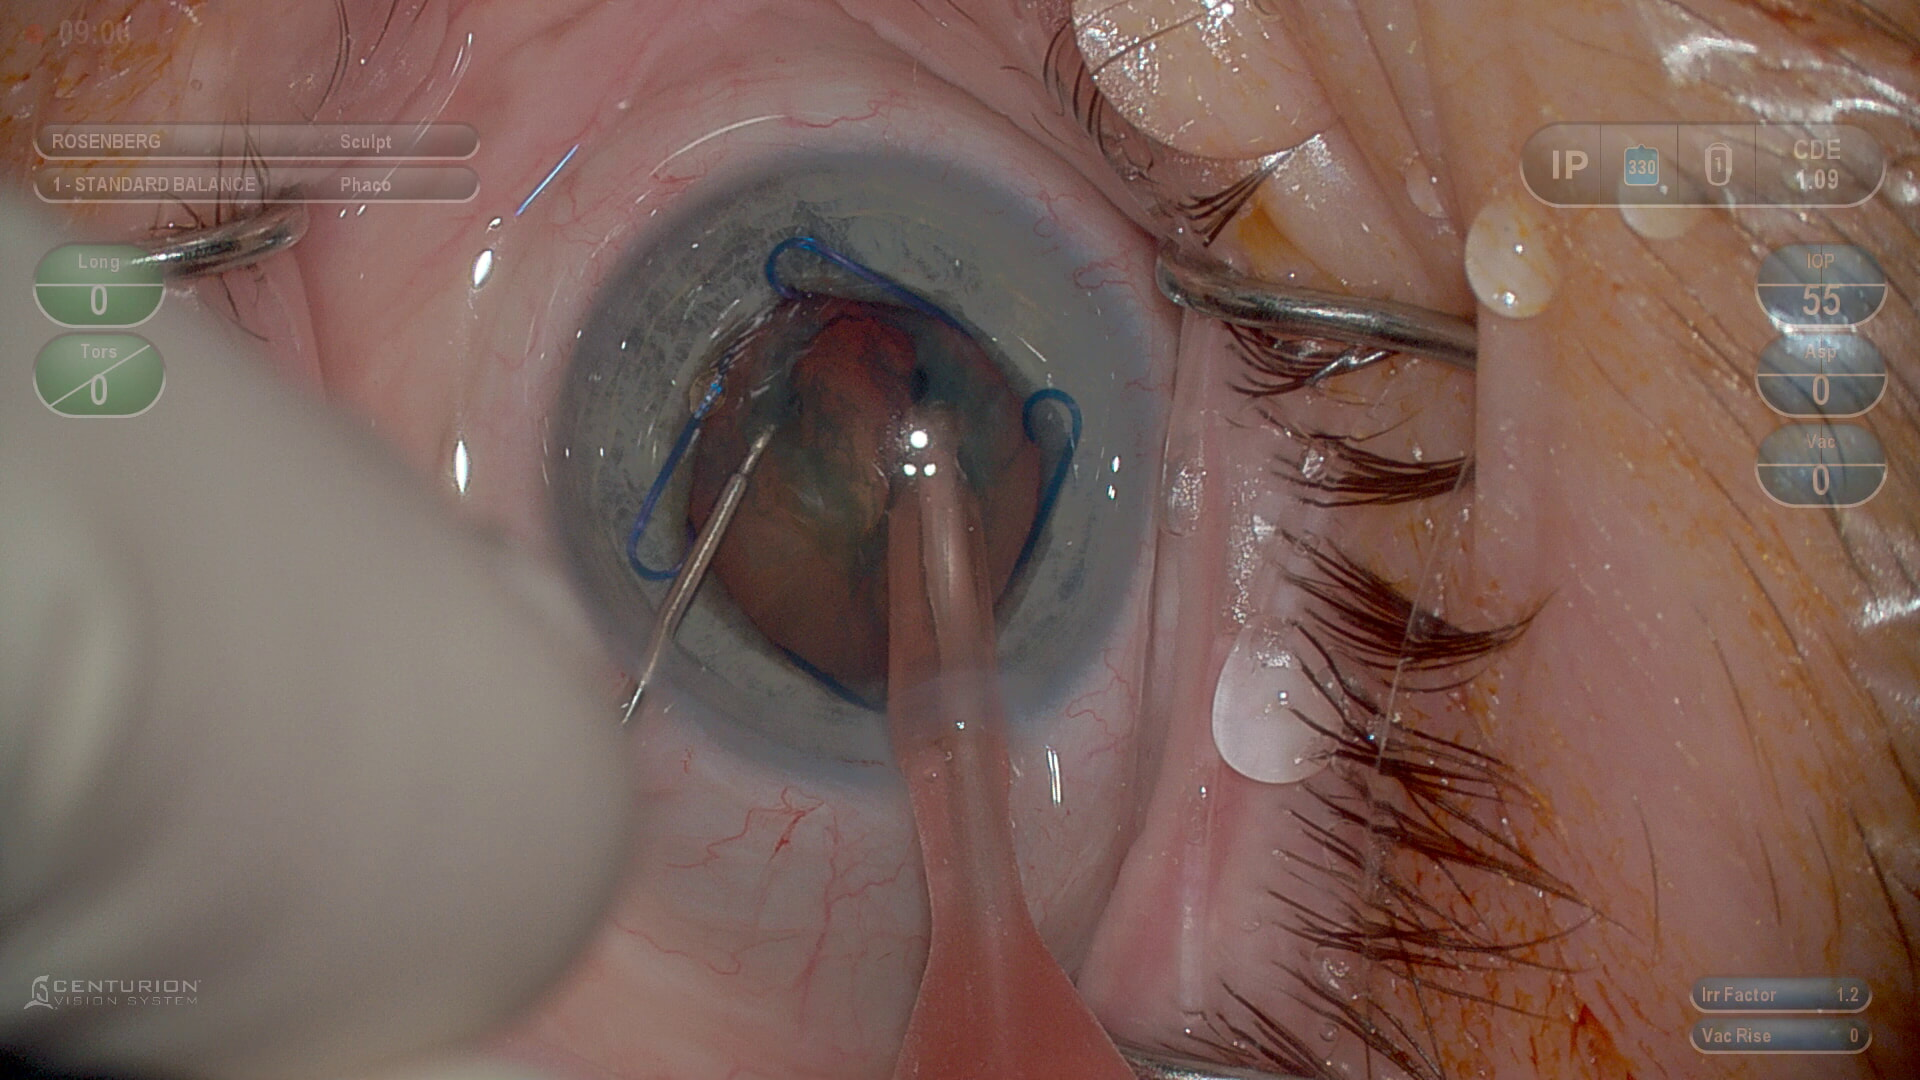iris: (576, 160, 1147, 783)
pupil: (677, 282, 1055, 695)
